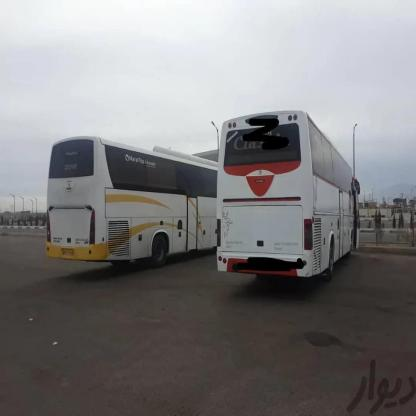Bus: (36, 135, 216, 274), (215, 111, 362, 279)
